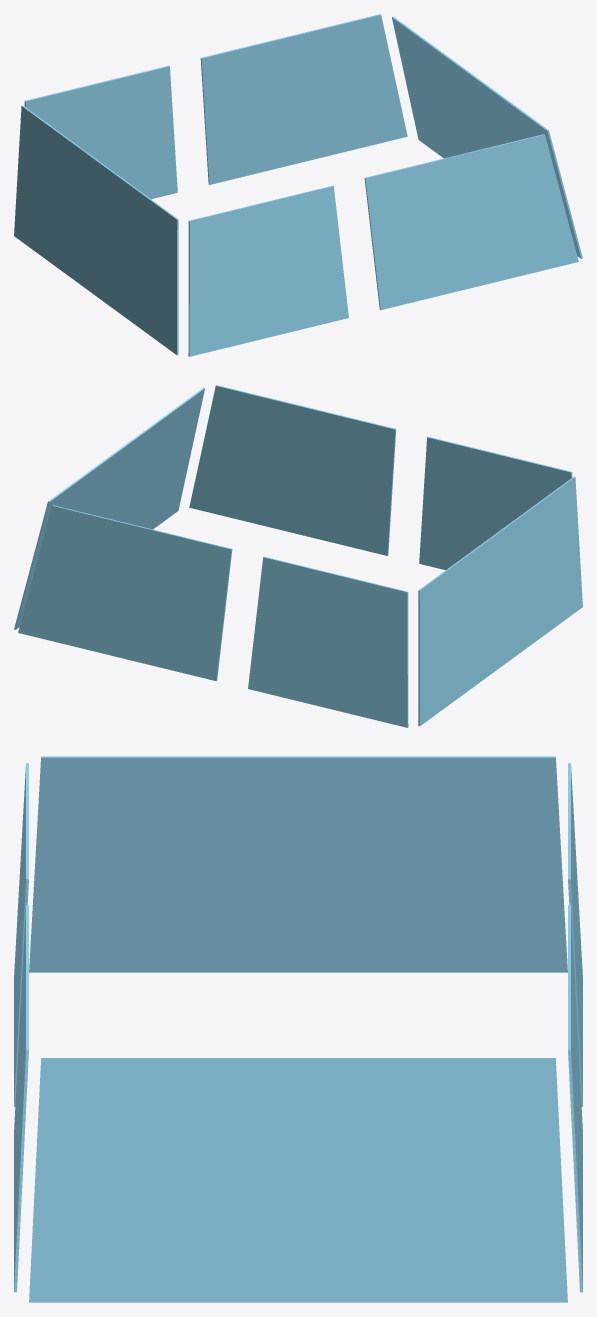
The model's file is Windows.glb.
3 views of the same model, one above another, from view 1: azimuth 30°, elevation 25°; view 2: azimuth 150°, elevation 25°; view 3: azimuth 270°, elevation 25° (orthographic). The views are drawn at different scales.
Visible parts, largest first — view 1: Cube.116; view 2: Cube.116; view 3: Cube.116.
Part boxes in pixels (x1,y1,x2,y2): Cube.116: (14, 14, 582, 356); Cube.116: (14, 385, 582, 727); Cube.116: (14, 756, 582, 1302).
Size of the model in its own units: 0.0831 by 0.0263 by 0.061.
Materials: 1 (1 with a texture image).
